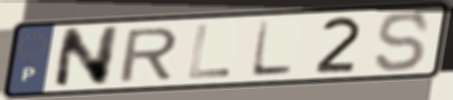2: (313, 15, 363, 74)
L: (247, 19, 297, 79), (185, 23, 233, 80)
N: (50, 24, 123, 91)
R: (116, 25, 181, 84)
S: (373, 9, 433, 75)
